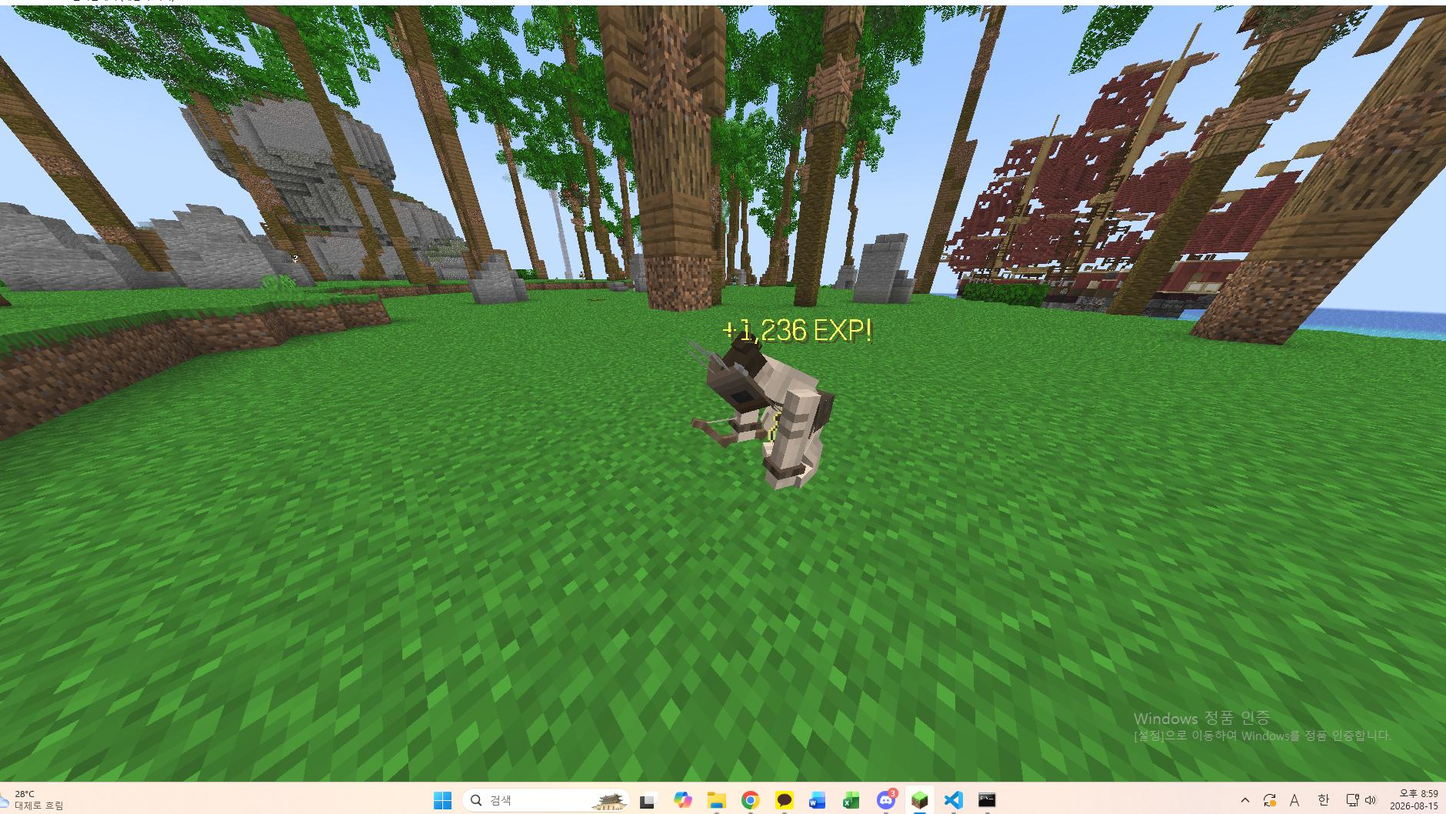bow_indian: (666, 311, 878, 494)
